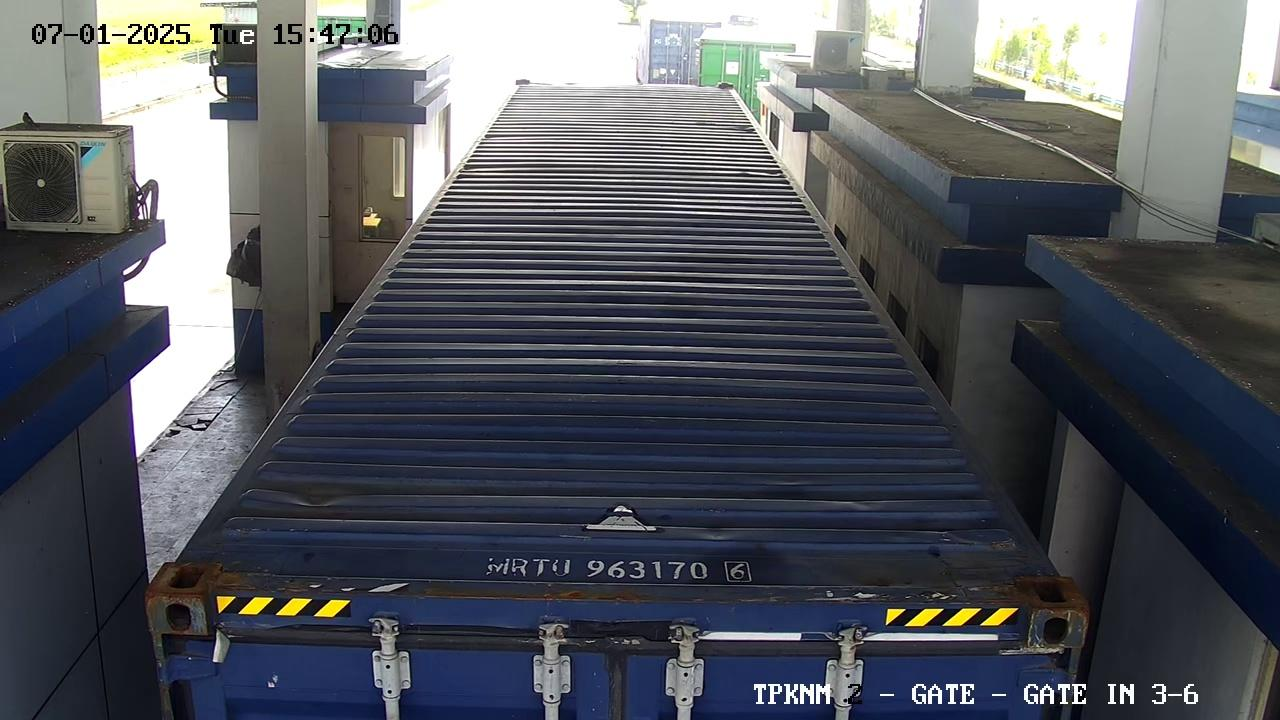Container_ID: (478, 508, 768, 594)
